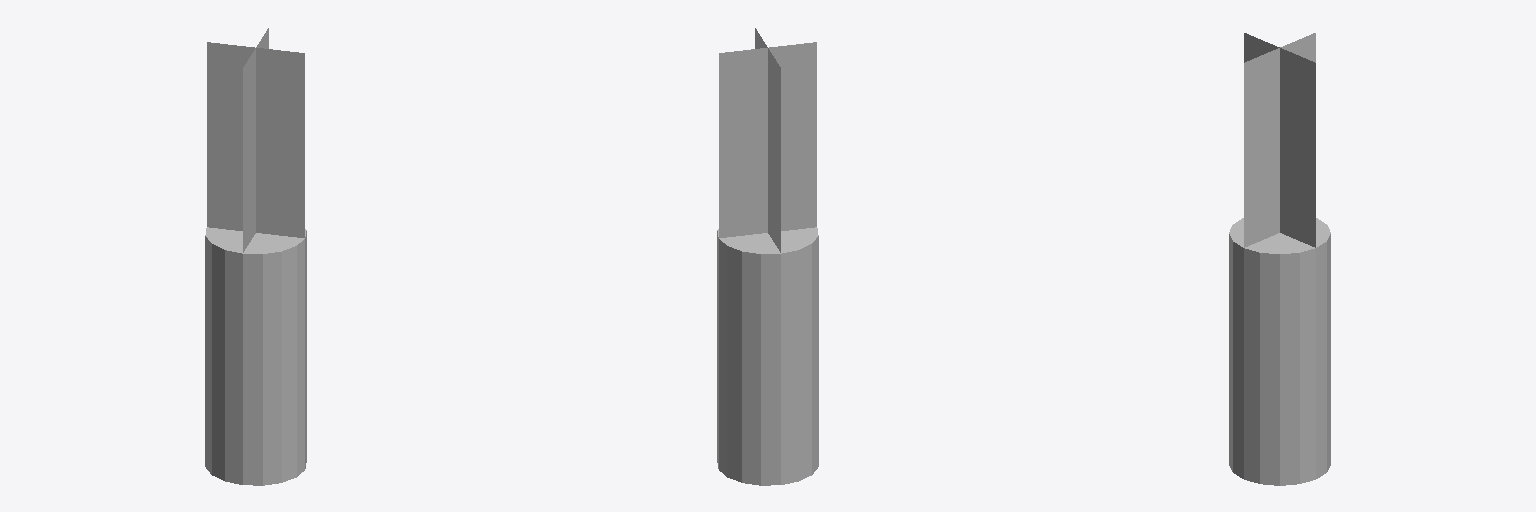
Rendered from homedecor_candle_thin.obj.
3 views of the same model, side by side, from view 1: azimuth 30°, elevation 25°; view 2: azimuth 150°, elevation 25°; view 3: azimuth 270°, elevation 25° (orthographic).
Parts seen in each view (by area): view 1: Cylinder; view 2: Cylinder; view 3: Cylinder.
Part boxes in pixels (x1,y1,x2,y2): Cylinder: (205, 28, 306, 485); Cylinder: (717, 28, 818, 485); Cylinder: (1229, 33, 1330, 485).
Bounding box in the file's own units: 0.125 × 0.5625 × 0.125.